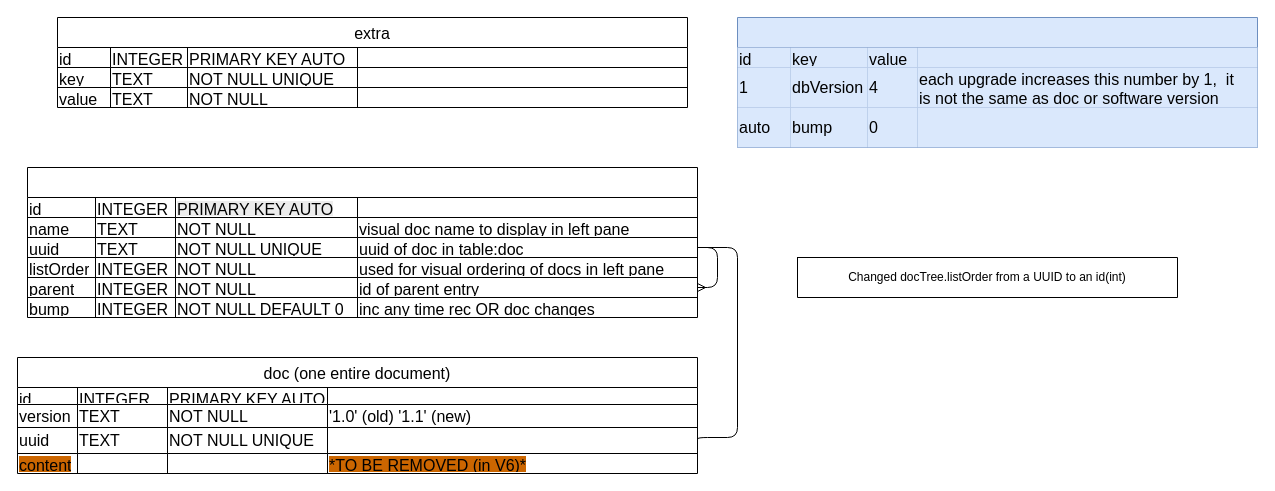
Some shapes in this 1275 by 491 pixel diagram are drawn without their labels. The box of each missing label's shape, as (x1, y1, x2, y2) in pixels:
docTree (linkage to doc entries to show in left pane): (26, 166, 698, 318)
initial values: (736, 16, 1258, 148)
